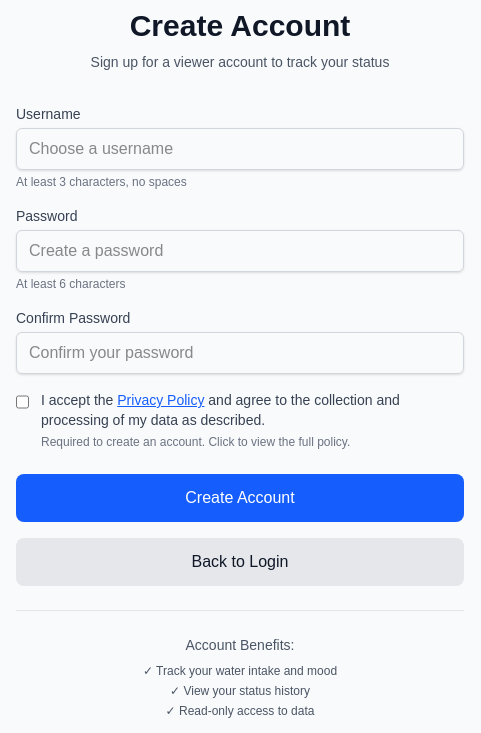
Test case: RegisterForm › validates password length
Type "testuser" into the field labelled "Username" at (240, 149), box [16,128,464,170]
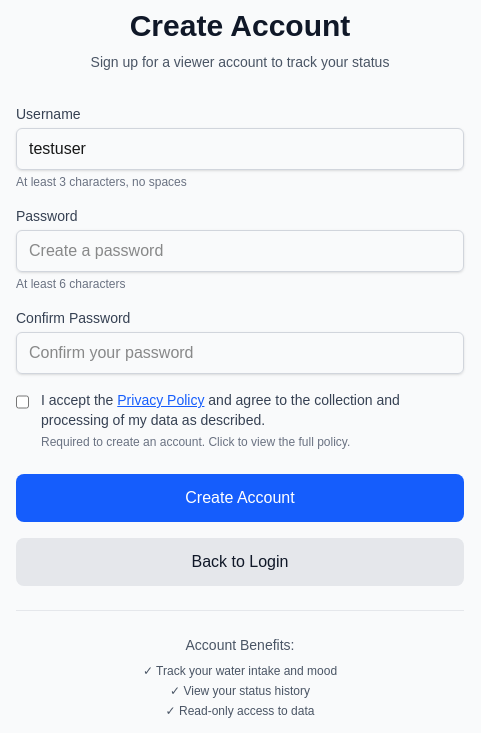
Type "12345" into the password field labelled "Password" at (240, 251), box [16,230,464,272]
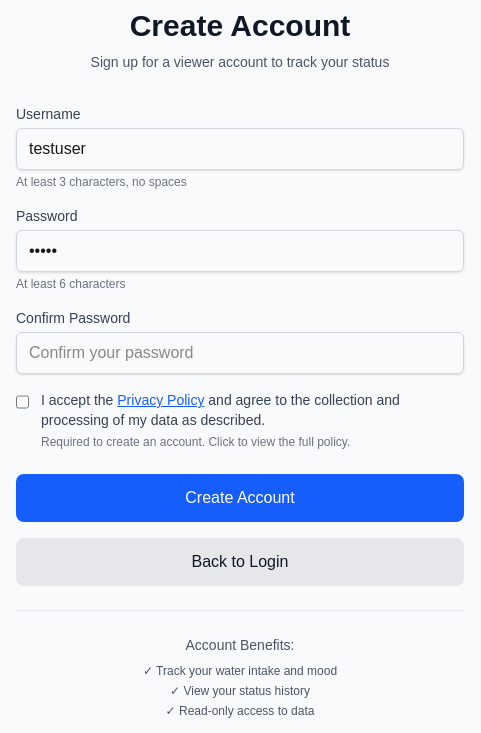
Click the button "Create Account" at (240, 498), box [16,474,464,522]
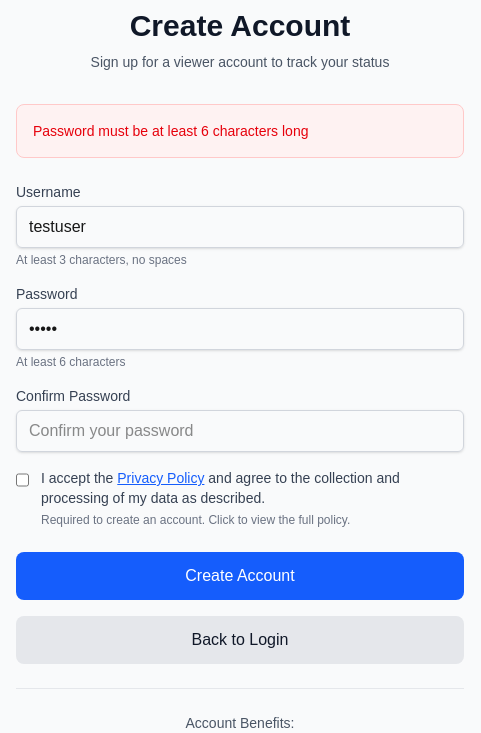
Expected: the text "Password must be at least 6 characters long" is shown, [33,123,308,139]
